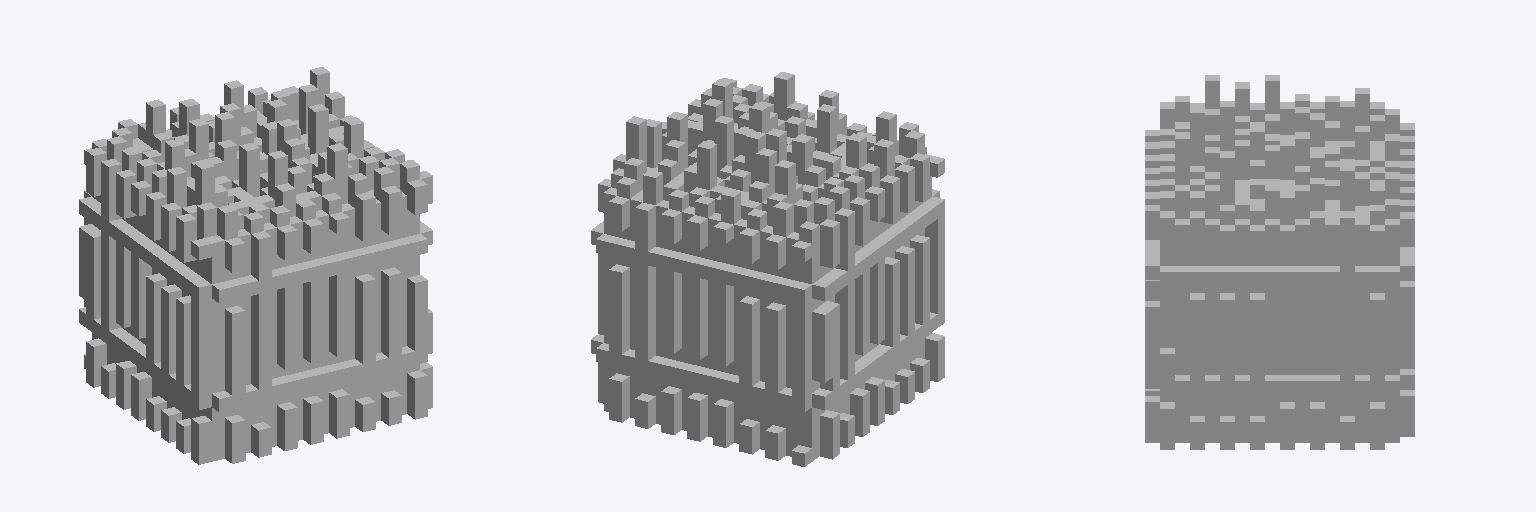
The model's file is Mur Paille.obj.
3 views of the same model, side by side, from view 1: azimuth 30°, elevation 25°; view 2: azimuth 150°, elevation 25°; view 3: azimuth 270°, elevation 25° (orthographic).
Parts seen in each view (by area): view 1: object 1; view 2: object 1; view 3: object 1.
Part boxes in pixels (left/top/right/bottom): object 1: left=79, top=67, right=432, bottom=464; object 1: left=591, top=72, right=944, bottom=466; object 1: left=1145, top=75, right=1414, bottom=449.
Size of the model in its own units: 1.8 by 2 by 1.8.